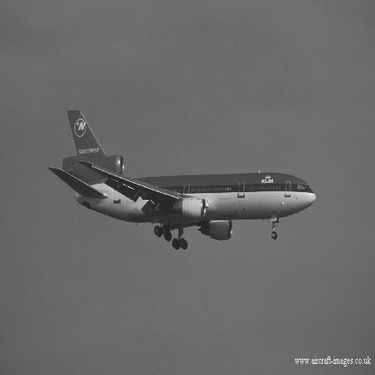airplane: (34, 94, 328, 260)
